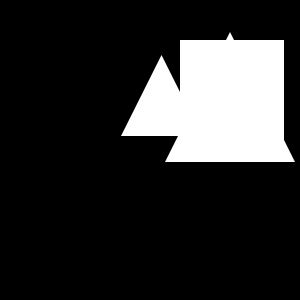circle: (180, 40, 284, 144)
triangle: (165, 32, 295, 162), (121, 55, 202, 136)
